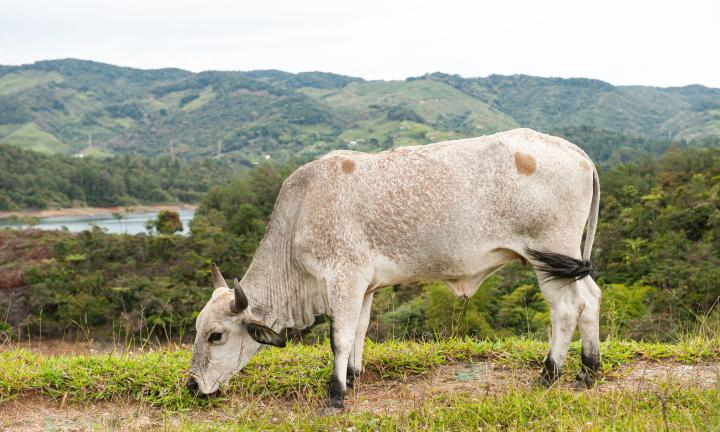Brahman: (187, 128, 601, 412)
